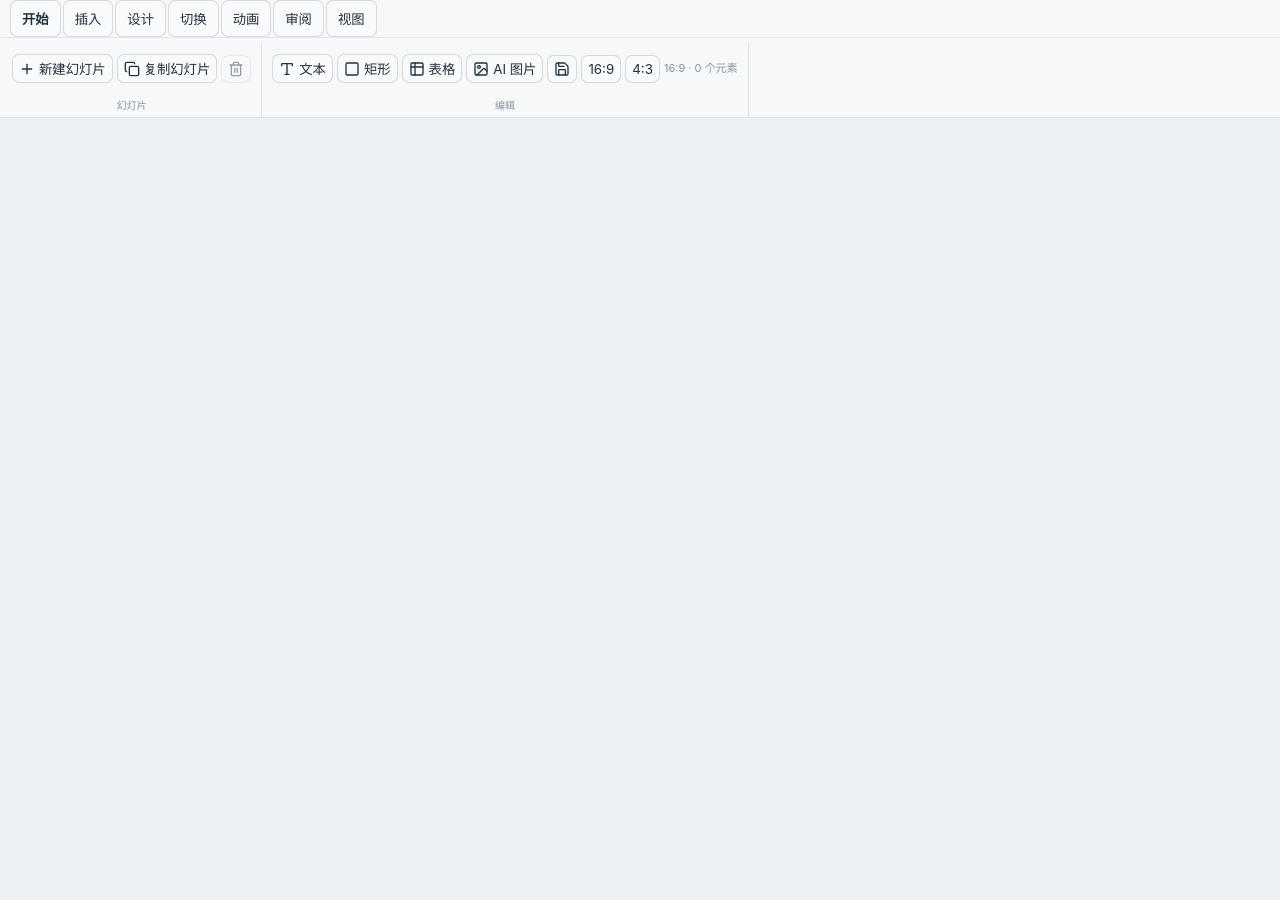
Test case: OfficePptRibbon —— Gorden 模板库集成 › 「设计」组提供 Gorden 模板库入口，点击打开对话框并列出模板
The image size is (1280, 900).
Click the tab "设计" at (141, 18), box [115, 0, 166, 37]
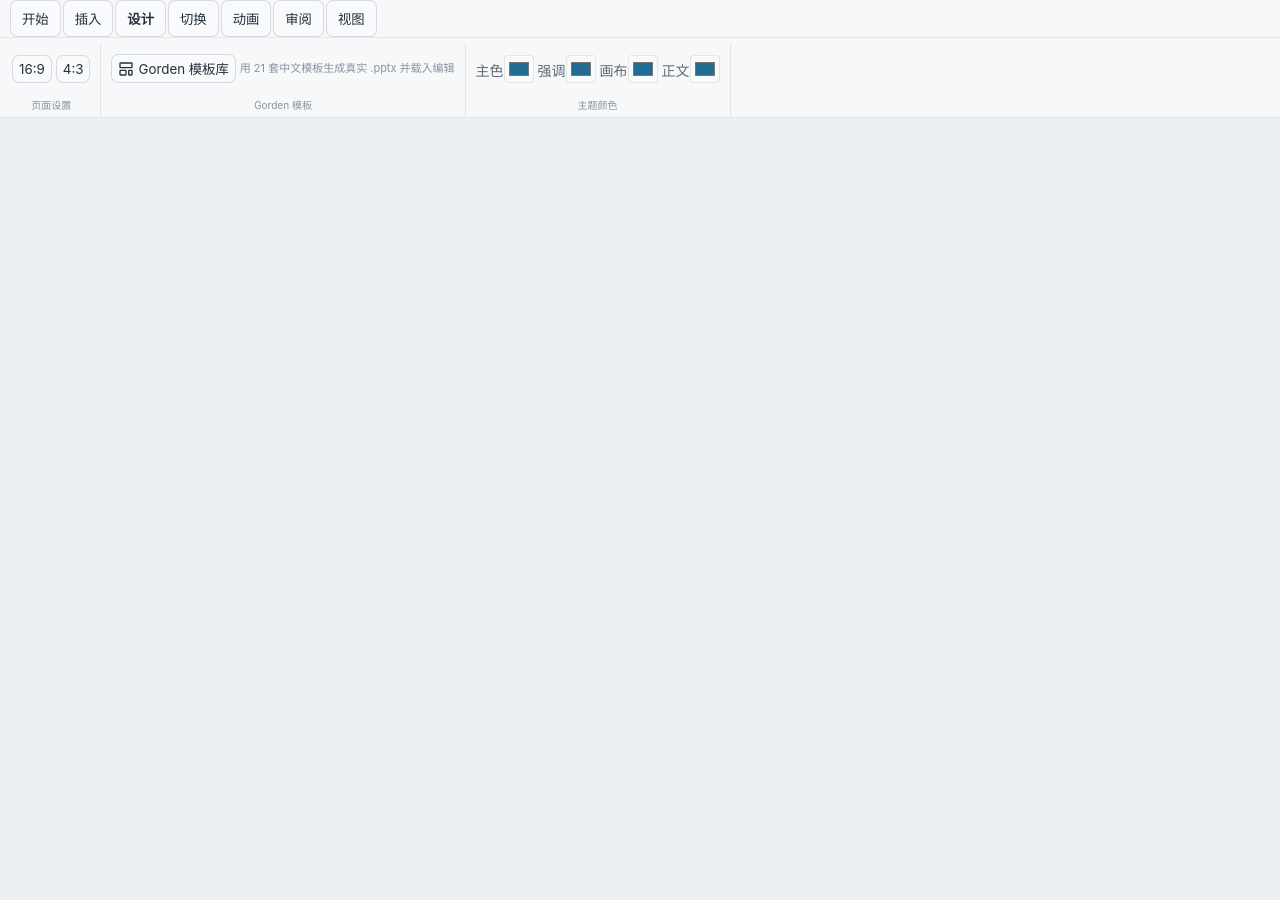
Expected: the button with test id "office-gorden-template" is shown
Click the button with test id "office-gorden-template" at (174, 68), box [112, 54, 236, 83]
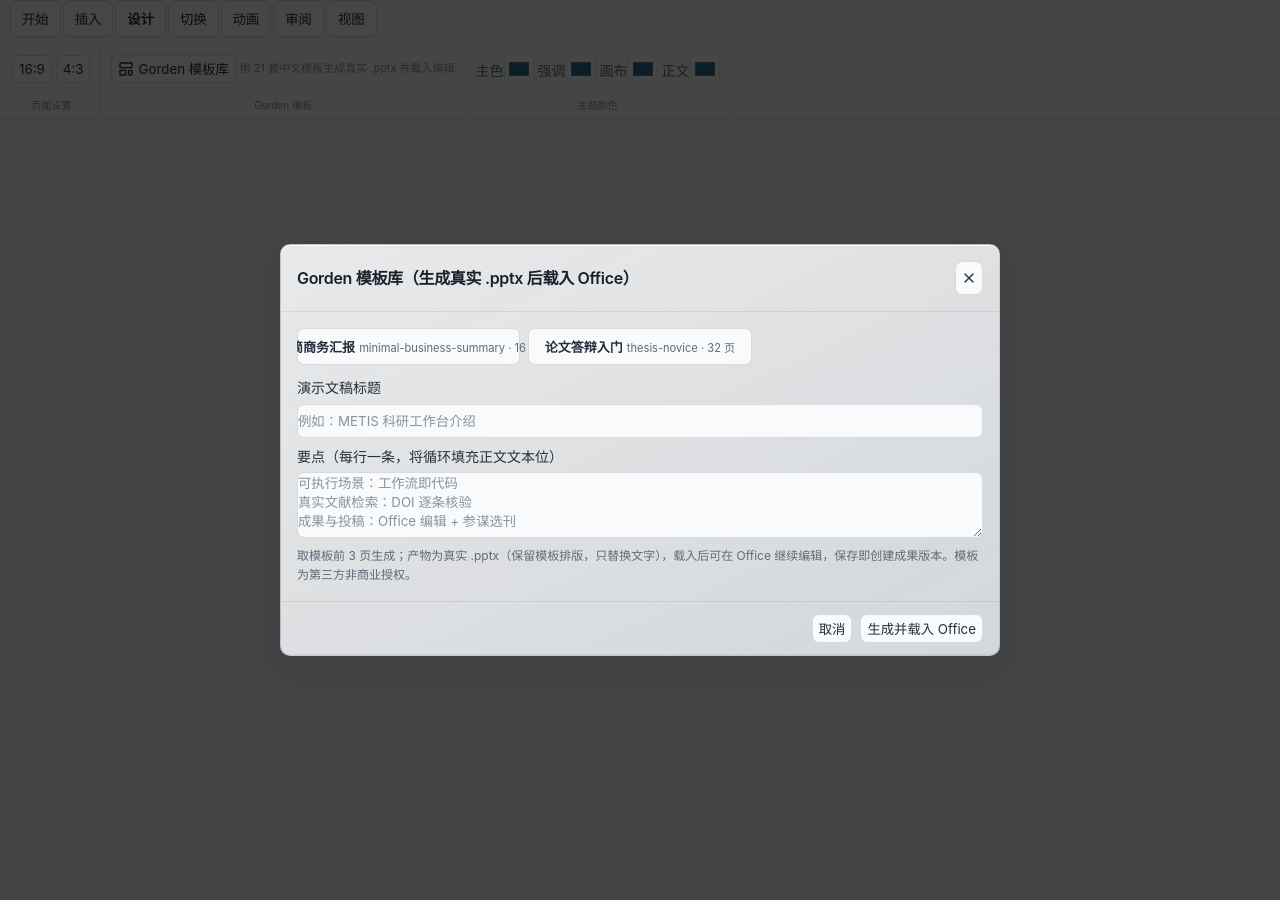
Expected: the dialog "Gorden 模板库" is shown, [280, 244, 1000, 656]
Expected: the text "极简商务汇报" is shown, [297, 337, 355, 356]
Expected: the text "论文答辩入门" is shown, [545, 337, 623, 356]
